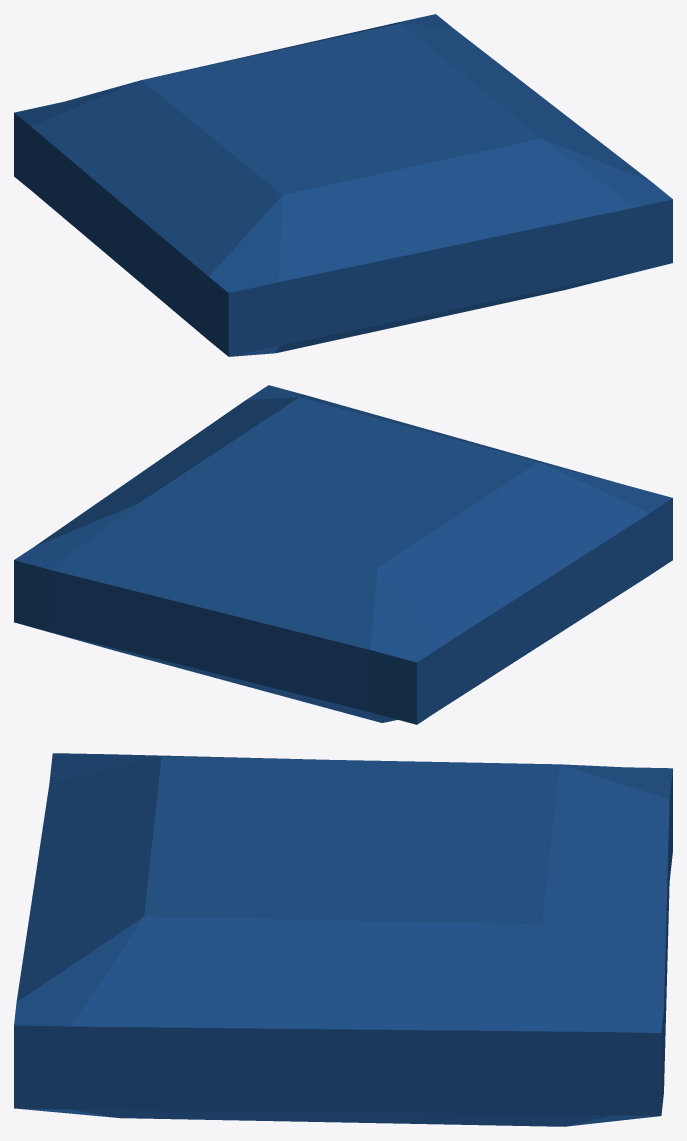
Rendered from Pude_1.fbx.
The picture shows the model from 3 angles, top to bottom: view 1: azimuth 30°, elevation 25°; view 2: azimuth 150°, elevation 25°; view 3: azimuth 270°, elevation 25°; orthographic projection. The views are drawn at different scales.
Visible parts, largest first — view 1: Pude_2; view 2: Pude_2; view 3: Pude_2.
Part boxes in pixels (x1,y1,x2,y2): Pude_2: [14, 14, 672, 356]; Pude_2: [14, 385, 672, 724]; Pude_2: [14, 753, 672, 1126].
Bounding box in the file's own units: 40.75 × 13.08 × 40.54.
